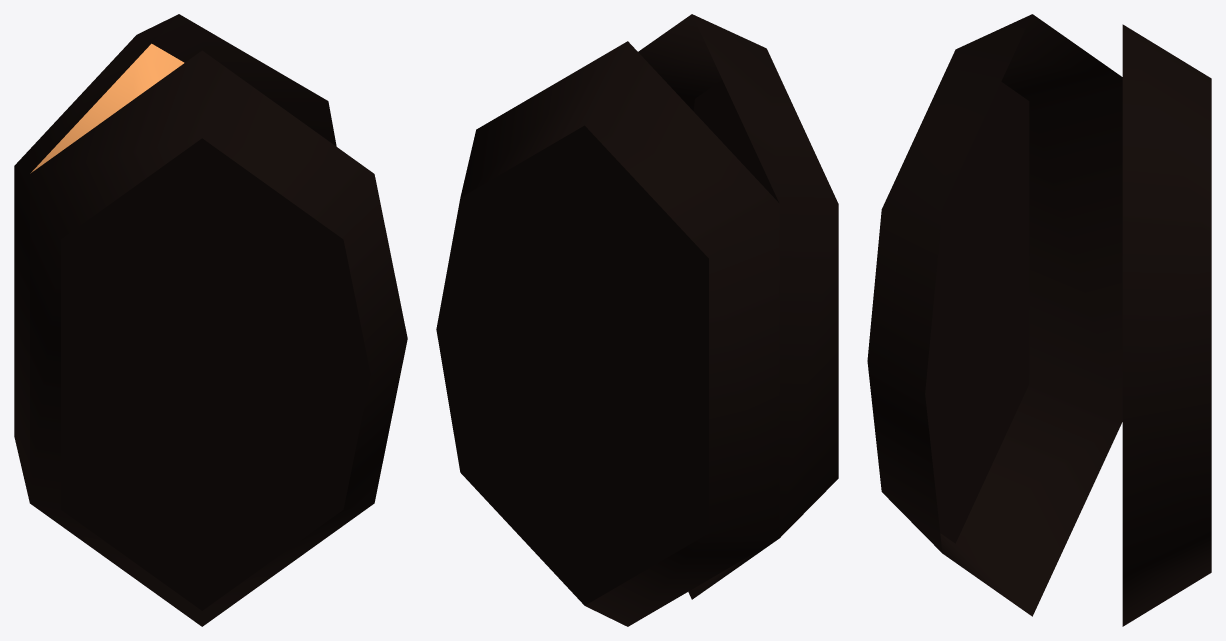
File: SM_Shell_Mussel.obj
The picture shows the model from 3 angles, left to right: view 1: azimuth 30°, elevation 25°; view 2: azimuth 150°, elevation 25°; view 3: azimuth 270°, elevation 25°; orthographic projection. The views are drawn at different scales.
Visible parts, largest first — view 1: SM_Shell_Mussel; view 2: SM_Shell_Mussel; view 3: SM_Shell_Mussel.
Part boxes in pixels (x1,y1,x2,y2): SM_Shell_Mussel: (14, 14, 407, 626); SM_Shell_Mussel: (436, 14, 838, 626); SM_Shell_Mussel: (867, 14, 1211, 626).
Bounding box in the file's own units: 4.02 × 6.5 × 3.36.
